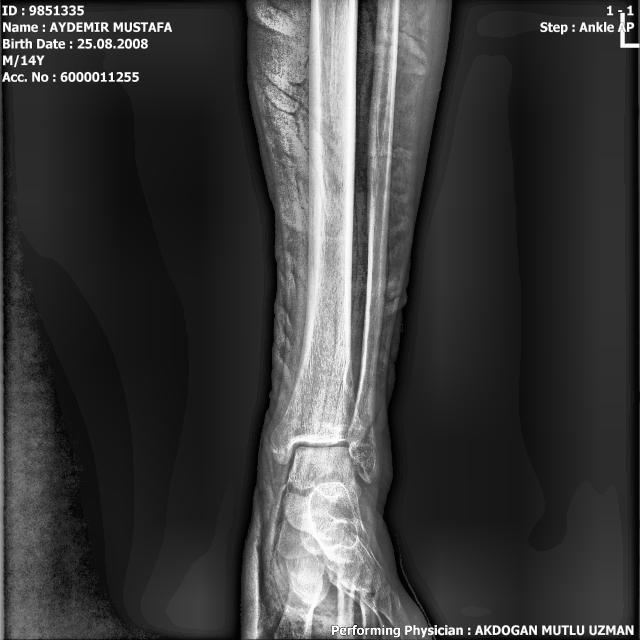Fracture: (350, 416, 381, 446)
